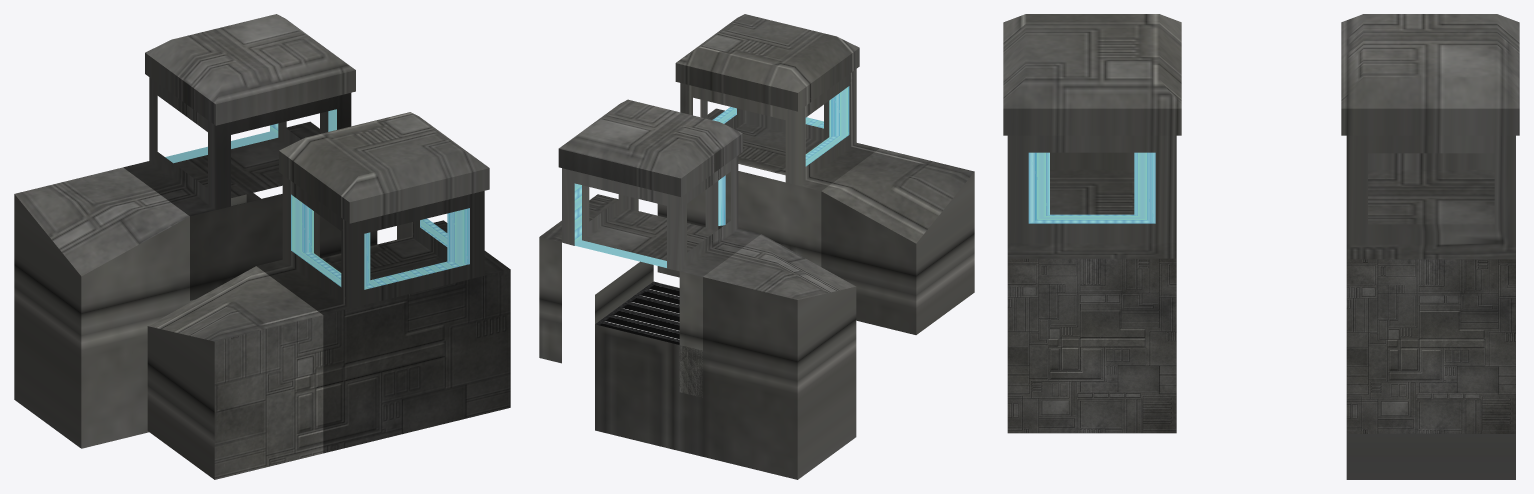
File: pills.gltf
3 renders of one model, left to right at view 1: azimuth 30°, elevation 25°; view 2: azimuth 150°, elevation 25°; view 3: azimuth 270°, elevation 25°, orthographic. The views are drawn at different scales.
Visible parts, largest first — view 1: polymsh_detached67; view 2: polymsh_detached67; view 3: polymsh_detached67.
Part boxes in pixels (left/top/right/bottom): polymsh_detached67: left=14, top=14, right=510, bottom=479; polymsh_detached67: left=539, top=14, right=974, bottom=479; polymsh_detached67: left=1003, top=14, right=1519, bottom=479.
Size of the model in its own units: 10.24 by 10.83 by 12.21.
Materials: 3 (3 with a texture image).
